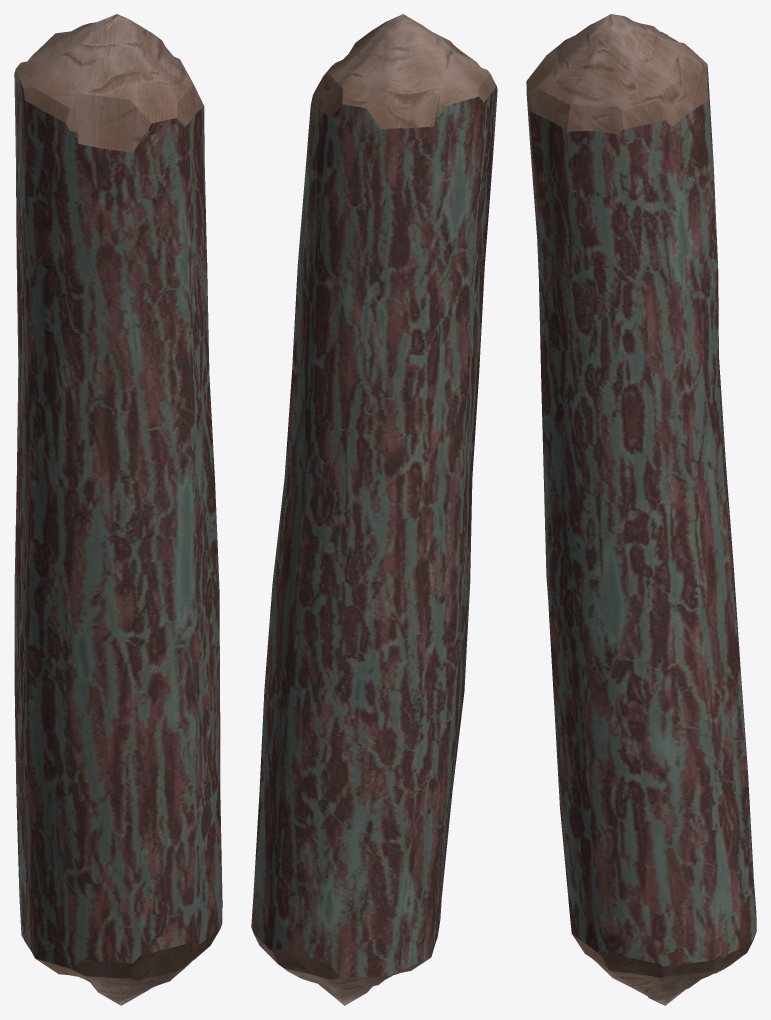
The picture shows the model from 3 angles, left to right: view 1: azimuth 30°, elevation 25°; view 2: azimuth 150°, elevation 25°; view 3: azimuth 270°, elevation 25°; orthographic projection. The views are drawn at different scales.
Visible parts, largest first — view 1: SM_MapleTree_02_quarter_03_LOD0; view 2: SM_MapleTree_02_quarter_03_LOD0; view 3: SM_MapleTree_02_quarter_03_LOD0.
Boxes of the visible parts, x1,y1,x2,y2 form: SM_MapleTree_02_quarter_03_LOD0: (14,14,222,1005); SM_MapleTree_02_quarter_03_LOD0: (251,14,497,1005); SM_MapleTree_02_quarter_03_LOD0: (526,14,756,1005).
Size of the model in its own units: 0.5618 by 2.65 by 0.5654.
Materials: 1 (1 with a texture image).
